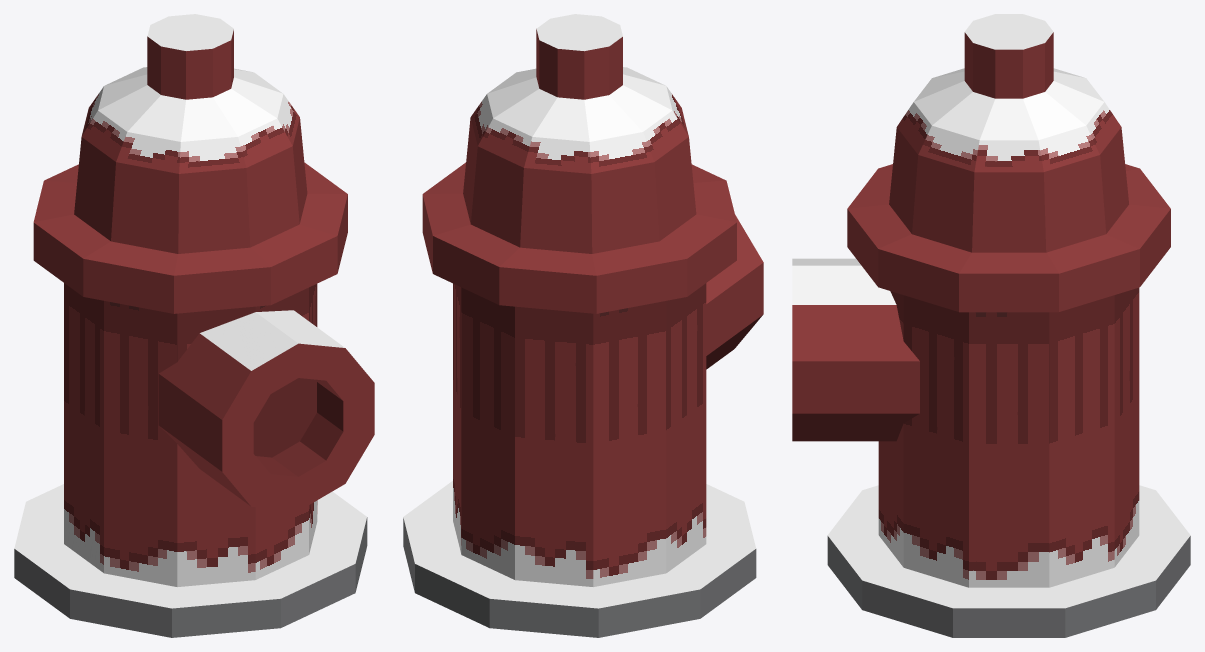
File: hydrant.glb
The picture shows the model from 3 angles, left to right: view 1: azimuth 30°, elevation 25°; view 2: azimuth 150°, elevation 25°; view 3: azimuth 270°, elevation 25°; orthographic projection.
Visible parts, largest first — view 1: Cylinder.001; view 2: Cylinder.001; view 3: Cylinder.001.
Boxes of the visible parts, left/top/right/bottom form: Cylinder.001: left=14, top=14, right=374, bottom=637; Cylinder.001: left=403, top=14, right=763, bottom=637; Cylinder.001: left=792, top=14, right=1190, bottom=637.
Size of the model in its own units: 38.04 by 64.79 by 43.88.
Materials: 1 (1 with a texture image).
